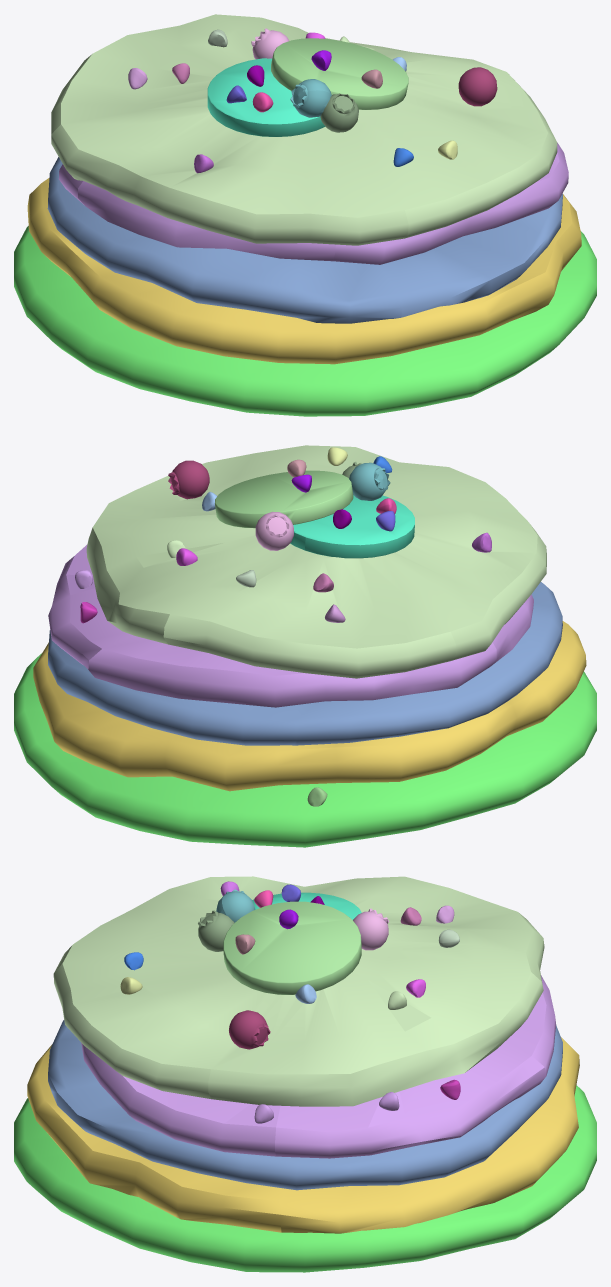
3 views of the same model, one above another, from view 1: azimuth 30°, elevation 25°; view 2: azimuth 150°, elevation 25°; view 3: azimuth 270°, elevation 25° (orthographic).
Parts seen in each view (by area): view 1: split_parent_4, sm_pancake_b_001_03 - Default_0, sm_pancake_b_001_03 - Default_0.012, sm_pancake_b_001_03 - Default_0.006, split_parent_3, sm_pancake_b_001_03 - Default_0.044, split_parent_11, sm_pancake_b_001_03 - Default_0.068, split_parent_15, sm_pancake_b_001_03 - Default_0.053, sm_pancake_b_001_03 - Default_0.033; view 2: split_parent_4, sm_pancake_b_001_03 - Default_0, sm_pancake_b_001_03 - Default_0.006, sm_pancake_b_001_03 - Default_0.012, split_parent_3, sm_pancake_b_001_03 - Default_0.044, split_parent_11, sm_pancake_b_001_03 - Default_0.068, sm_pancake_b_001_03 - Default_0.033, split_parent_15; view 3: split_parent_4, sm_pancake_b_001_03 - Default_0.006, sm_pancake_b_001_03 - Default_0, split_parent_3, sm_pancake_b_001_03 - Default_0.012, sm_pancake_b_001_03 - Default_0.044, sm_pancake_b_001_03 - Default_0.068, sm_pancake_b_001_03 - Default_0.033, sm_pancake_b_001_03 - Default_0.053, split_parent_15, split_parent_11.
Boxes of the visible parts, <box> form: split_parent_4: <box>51,14,557,245</box>; sm_pancake_b_001_03 - Default_0: <box>14,226,596,416</box>; sm_pancake_b_001_03 - Default_0.012: <box>47,157,562,323</box>; sm_pancake_b_001_03 - Default_0.006: <box>27,178,581,364</box>; split_parent_3: <box>58,142,568,264</box>; sm_pancake_b_001_03 - Default_0.044: <box>271,38,408,109</box>; split_parent_11: <box>207,58,325,136</box>; sm_pancake_b_001_03 - Default_0.068: <box>458,67,497,106</box>; split_parent_15: <box>290,79,331,117</box>; sm_pancake_b_001_03 - Default_0.053: <box>320,93,358,132</box>; sm_pancake_b_001_03 - Default_0.033: <box>251,28,289,59</box>; split_parent_4: <box>86,445,546,678</box>; sm_pancake_b_001_03 - Default_0: <box>14,653,596,847</box>; sm_pancake_b_001_03 - Default_0.006: <box>33,621,586,791</box>; sm_pancake_b_001_03 - Default_0.012: <box>48,582,562,745</box>; split_parent_3: <box>48,544,533,707</box>; sm_pancake_b_001_03 - Default_0.044: <box>215,470,353,528</box>; split_parent_11: <box>290,495,414,558</box>; sm_pancake_b_001_03 - Default_0.068: <box>168,460,209,499</box>; sm_pancake_b_001_03 - Default_0.033: <box>255,511,293,550</box>; split_parent_15: <box>349,462,390,500</box>; split_parent_4: <box>53,876,544,1106</box>; sm_pancake_b_001_03 - Default_0.006: <box>27,1037,579,1233</box>; sm_pancake_b_001_03 - Default_0: <box>14,1085,596,1272</box>; split_parent_3: <box>81,975,556,1158</box>; sm_pancake_b_001_03 - Default_0.012: <box>48,1020,562,1190</box>; sm_pancake_b_001_03 - Default_0.044: <box>223,901,361,994</box>; sm_pancake_b_001_03 - Default_0.068: <box>229,1010,270,1049</box>; sm_pancake_b_001_03 - Default_0.033: <box>353,908,388,950</box>; sm_pancake_b_001_03 - Default_0.053: <box>198,910,234,951</box>; split_parent_15: <box>216,889,255,922</box>; split_parent_11: <box>252,892,361,919</box>.
Size of the model in its own units: 1 by 0.4988 by 0.9945.
